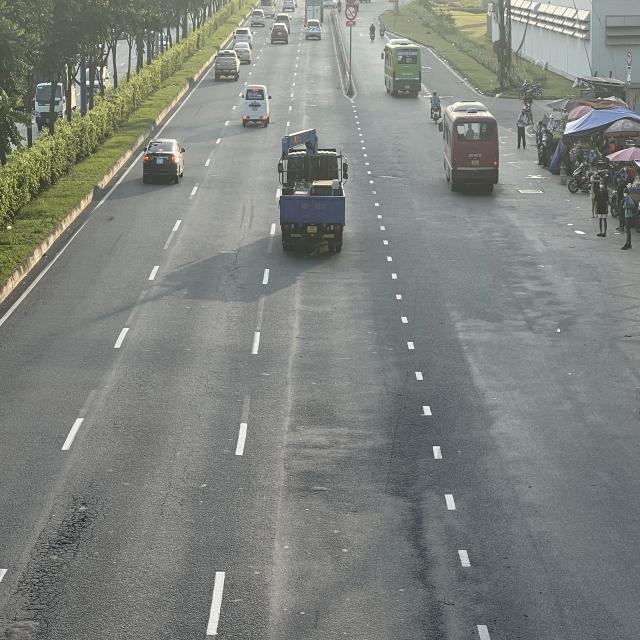car: (142, 138, 185, 182), (214, 51, 240, 80), (232, 27, 254, 48), (269, 24, 289, 44), (304, 19, 322, 39), (249, 8, 266, 26)
coach: (442, 104, 502, 192), (381, 39, 421, 98)
truck: (278, 129, 350, 253)
van: (243, 82, 272, 126)
